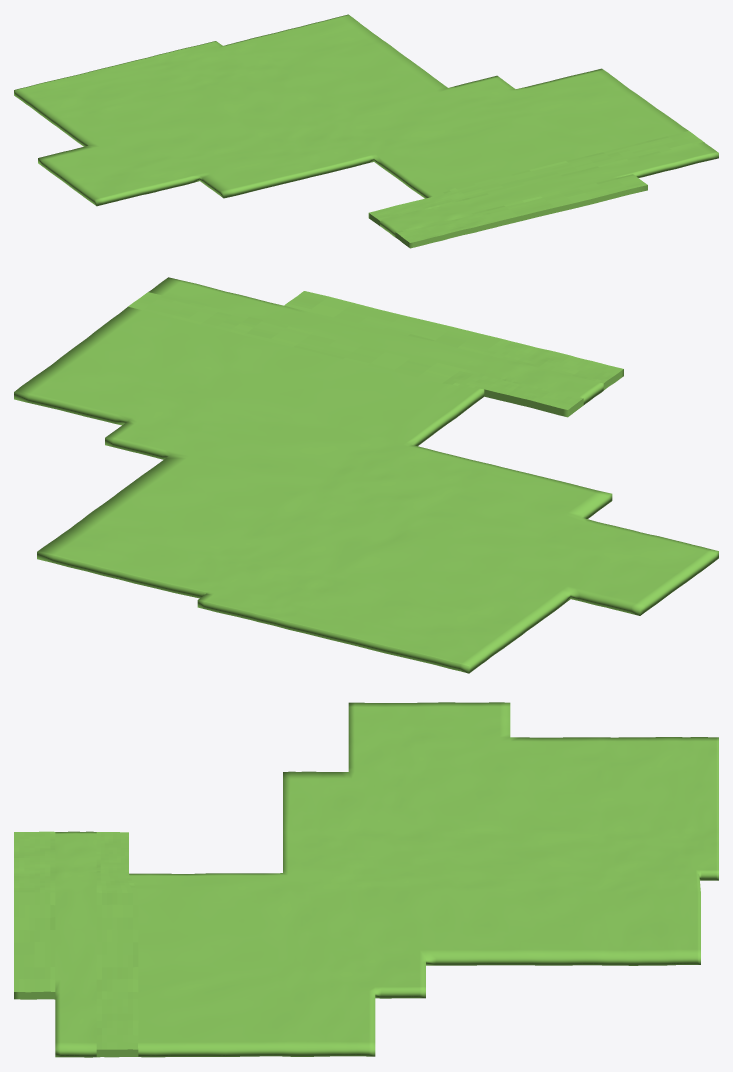
Rendered from ground.fbx.
3 views of the same model, one above another, from view 1: azimuth 30°, elevation 25°; view 2: azimuth 150°, elevation 25°; view 3: azimuth 270°, elevation 25° (orthographic). The views are drawn at different scales.
Visible parts, largest first — view 1: ground2.001; view 2: ground2.001; view 3: ground2.001.
Boxes of the visible parts, x1=… form: ground2.001: x1=14, y1=14, x2=718, y2=248; ground2.001: x1=14, y1=277, x2=718, y2=673; ground2.001: x1=14, y1=702, x2=718, y2=1057.
Bounding box in the file's own units: 4506 × 54.09 × 3867.
